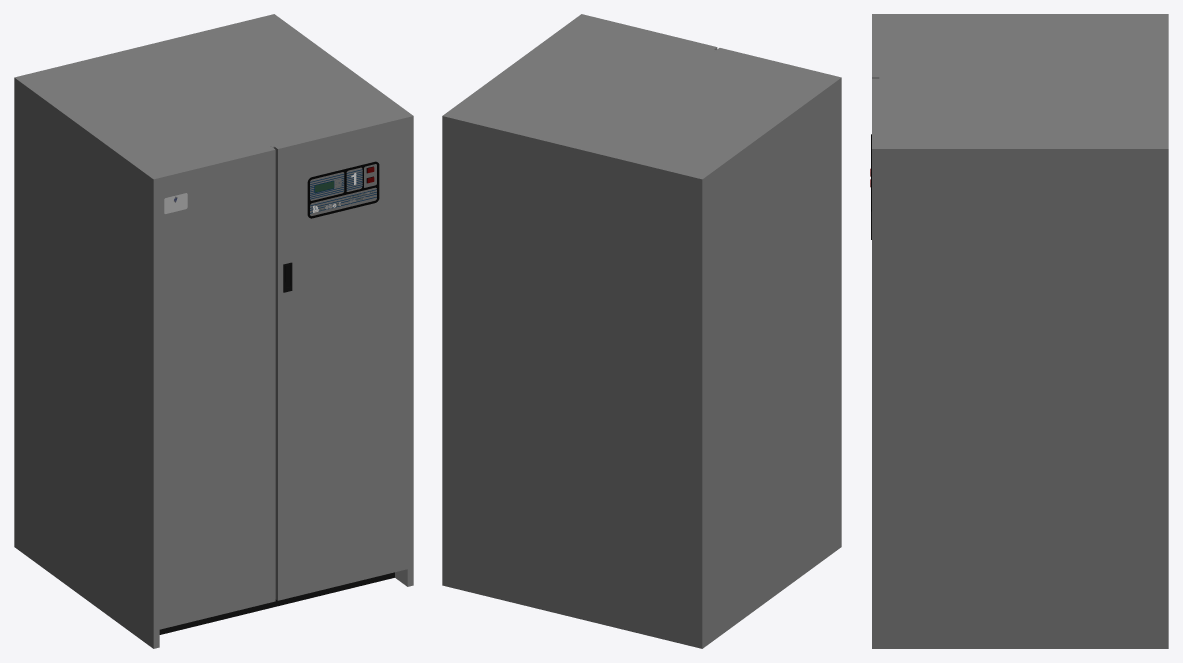
The model's file is Liebertvertical.glb.
The picture shows the model from 3 angles, left to right: view 1: azimuth 30°, elevation 25°; view 2: azimuth 150°, elevation 25°; view 3: azimuth 270°, elevation 25°; orthographic projection. The views are drawn at different scales.
Visible parts, largest first — view 1: Component#1; view 2: Component#1; view 3: Component#1.
Boxes of the visible parts, x1=… form: Component#1: x1=14, y1=14, x2=413, y2=648; Component#1: x1=442, y1=14, x2=841, y2=648; Component#1: x1=870, y1=14, x2=1168, y2=648.
Bounding box in the file's own units: 3.22 × 5.56 × 3.
19 materials, 1 textured.
